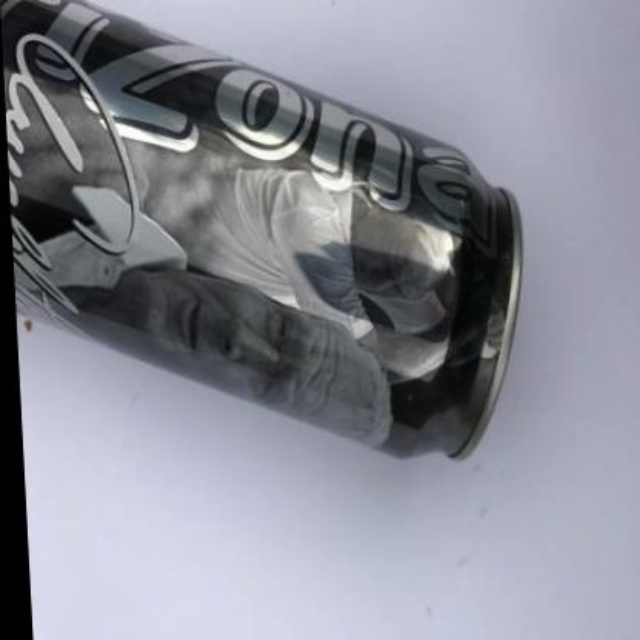trash: (0, 0, 520, 455)
